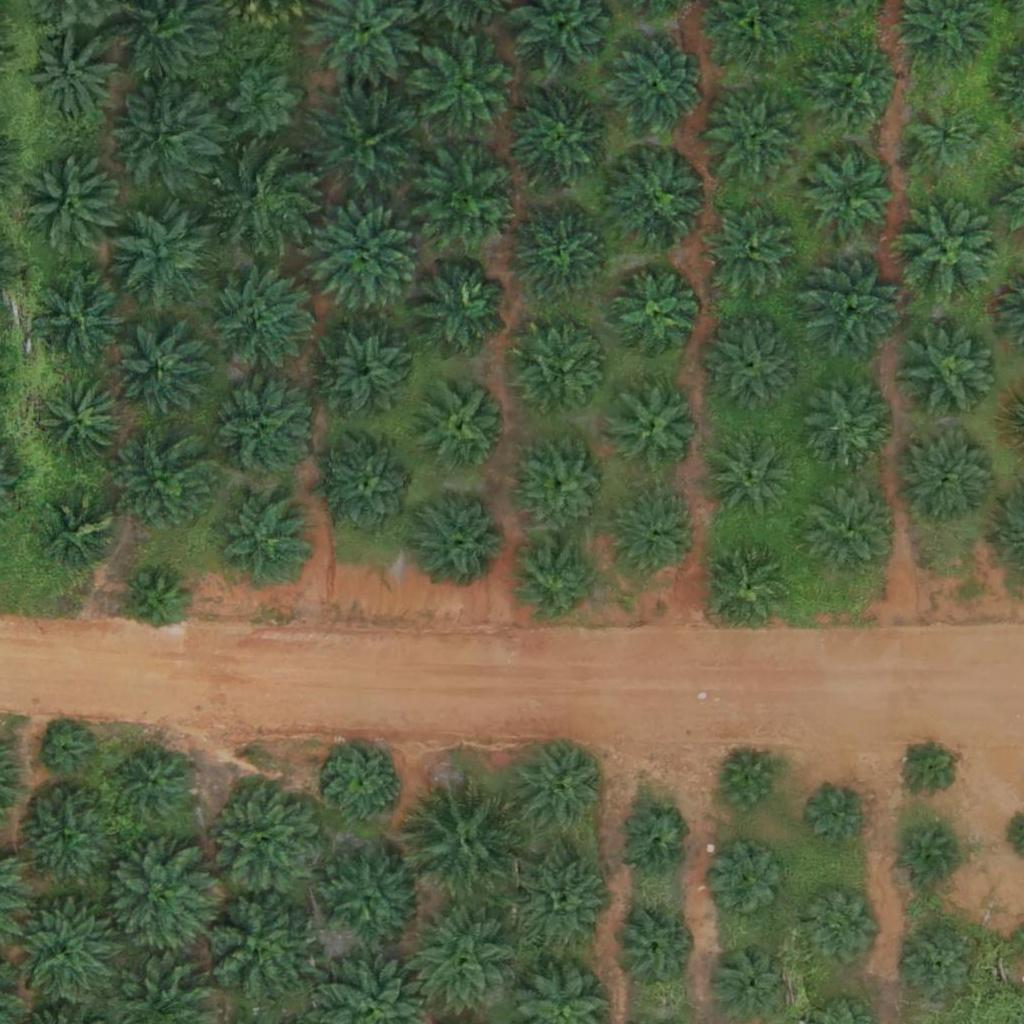Kelapa_Sawit: (205, 775, 330, 901), (193, 886, 318, 1012), (404, 776, 529, 902), (1, 894, 126, 1019), (307, 207, 420, 321), (409, 35, 522, 148), (304, 87, 417, 200), (112, 77, 224, 191), (103, 843, 215, 956), (902, 202, 1002, 303), (803, 38, 903, 139), (801, 262, 901, 363), (704, 84, 804, 185), (703, 201, 803, 302), (701, 317, 801, 418), (604, 35, 704, 136), (609, 148, 709, 249), (510, 91, 610, 192), (512, 201, 612, 302), (420, 145, 520, 246), (111, 206, 211, 307), (20, 155, 120, 256), (28, 267, 128, 368), (115, 434, 215, 535), (209, 379, 309, 480), (214, 489, 314, 590), (798, 475, 898, 576), (900, 323, 1000, 424), (898, 427, 998, 528), (14, 788, 114, 889), (409, 257, 509, 357), (216, 150, 316, 250), (209, 271, 309, 371), (320, 438, 420, 538), (412, 489, 512, 589), (514, 435, 614, 535), (319, 847, 419, 947), (509, 739, 609, 839), (513, 855, 613, 955), (611, 272, 699, 360), (317, 330, 405, 418), (38, 380, 126, 468), (611, 385, 699, 473), (613, 491, 701, 579), (709, 431, 797, 519), (706, 541, 794, 629), (610, 904, 697, 992), (806, 150, 893, 238), (517, 331, 604, 419), (118, 332, 205, 420), (30, 33, 117, 121), (420, 381, 507, 469), (514, 538, 601, 626), (813, 378, 900, 466), (909, 104, 984, 180), (714, 943, 789, 1019), (225, 61, 300, 137), (326, 744, 401, 820), (614, 804, 689, 880), (712, 846, 787, 921), (805, 888, 880, 963), (903, 932, 978, 1007), (45, 498, 120, 573), (117, 747, 192, 822), (124, 571, 187, 634), (897, 736, 960, 799), (898, 825, 961, 888), (717, 752, 779, 815), (807, 785, 869, 848), (42, 726, 92, 776)
